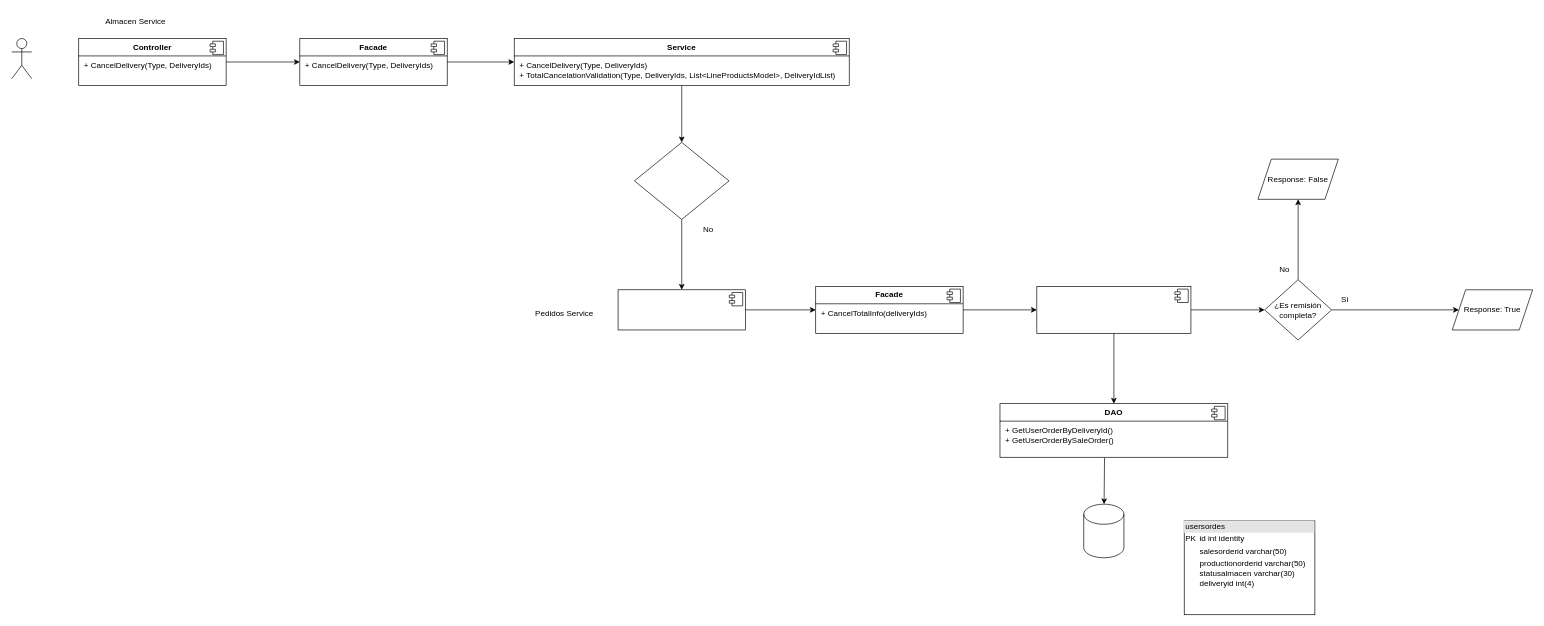
The diagram is 1544 pixels wide and 626 high, and some of its shapes have lost their labels. The centre of each missing label's shape, as x and y in pixels:
"Actor" goes at point 21,58.
"Controller + CancelTotalInfo(deliveryIds)" goes at point 681,309.
"Postgresql" goes at point 1103,531.
"Service + CancelTotalInfo(deliveryIds)" goes at point 1113,309.
"¿Existe la remisión en lineproducts?" goes at point 681,180.
